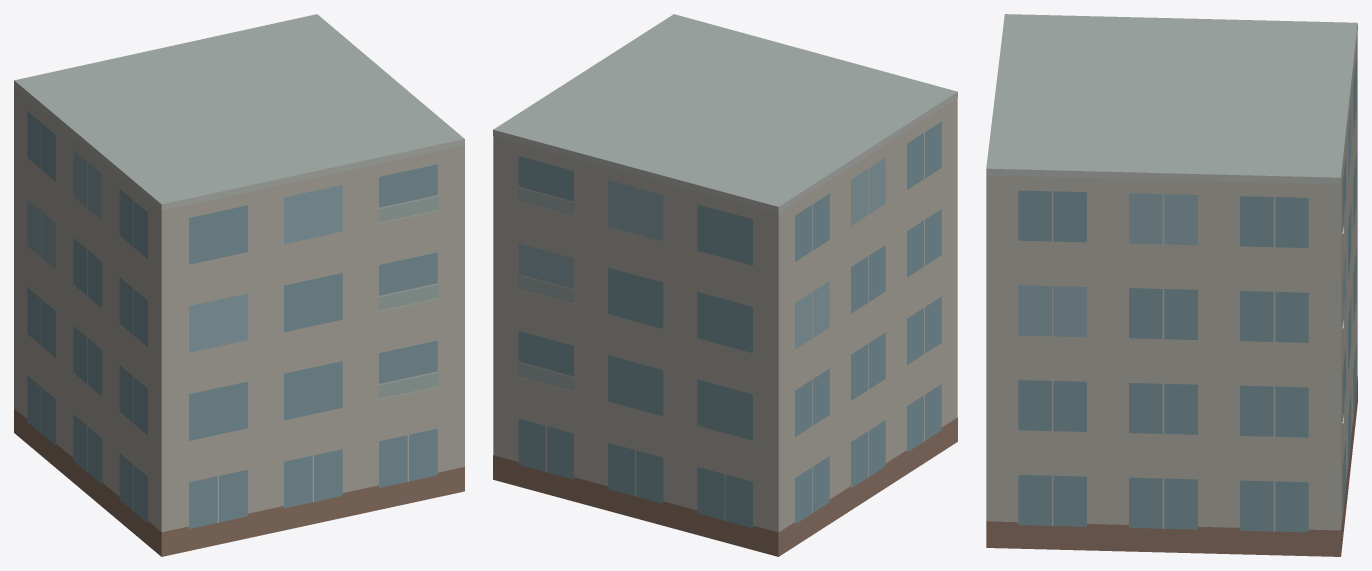
File: survey-upis-32665305.glb
The picture shows the model from 3 angles, left to right: view 1: azimuth 30°, elevation 25°; view 2: azimuth 150°, elevation 25°; view 3: azimuth 270°, elevation 25°; orthographic projection. The views are drawn at different scales.
Parts seen in each view (by area): view 1: survey-upis-32665305.tmp; view 2: survey-upis-32665305.tmp; view 3: survey-upis-32665305.tmp.
Boxes of the visible parts, x1,y1,x2,y2 form: survey-upis-32665305.tmp: (14,14,464,556); survey-upis-32665305.tmp: (493,14,957,556); survey-upis-32665305.tmp: (986,14,1357,556).
Bounding box in the file's own units: 12.34 × 13.32 × 11.84.
